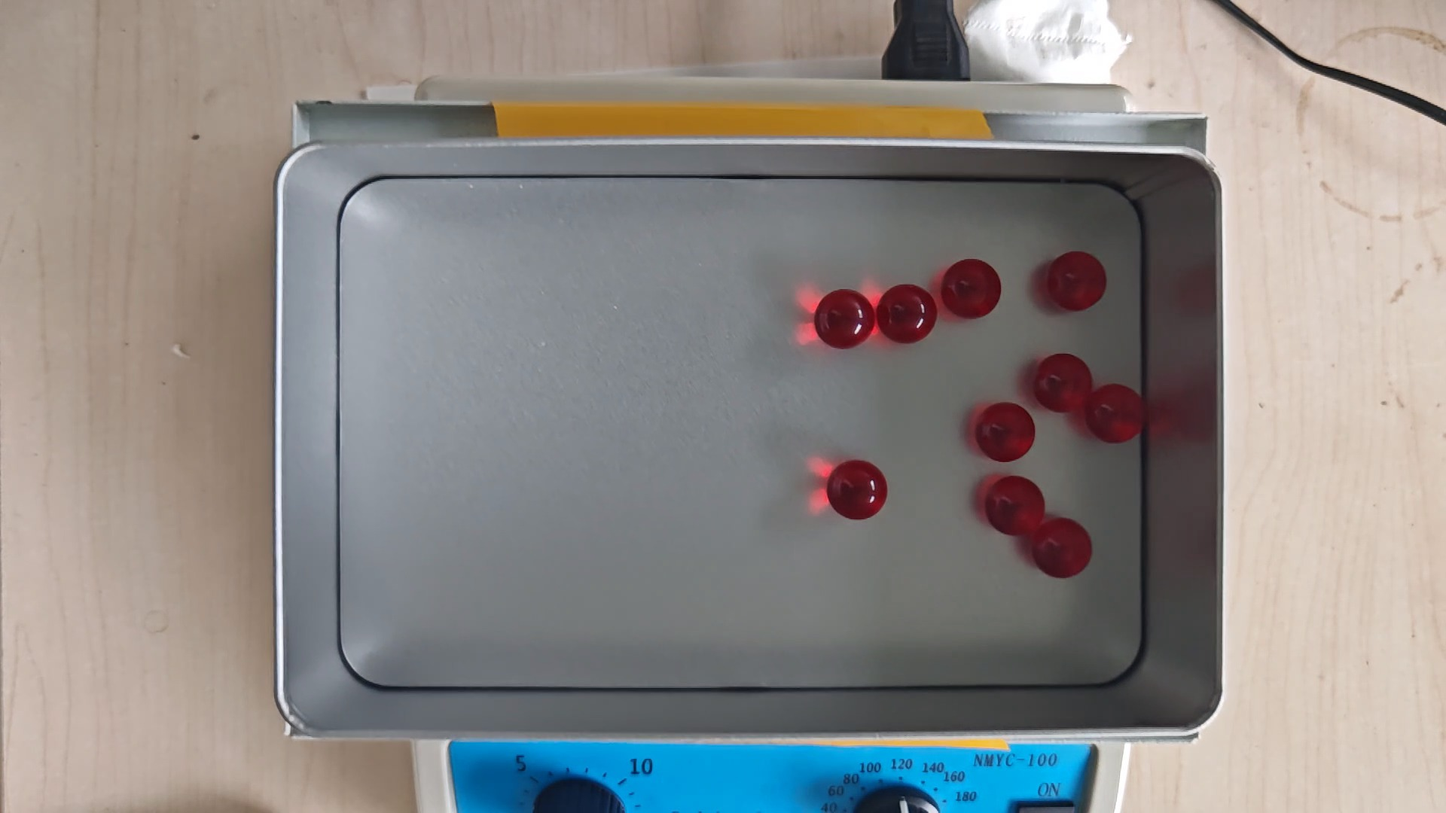ball: (984, 474, 1046, 537), (827, 459, 888, 522), (1033, 517, 1093, 580), (815, 288, 875, 350), (942, 258, 1002, 320), (1047, 251, 1107, 312), (1033, 353, 1093, 414), (1086, 383, 1145, 445), (976, 402, 1035, 463), (878, 283, 936, 344)
container: (338, 177, 1143, 688)
